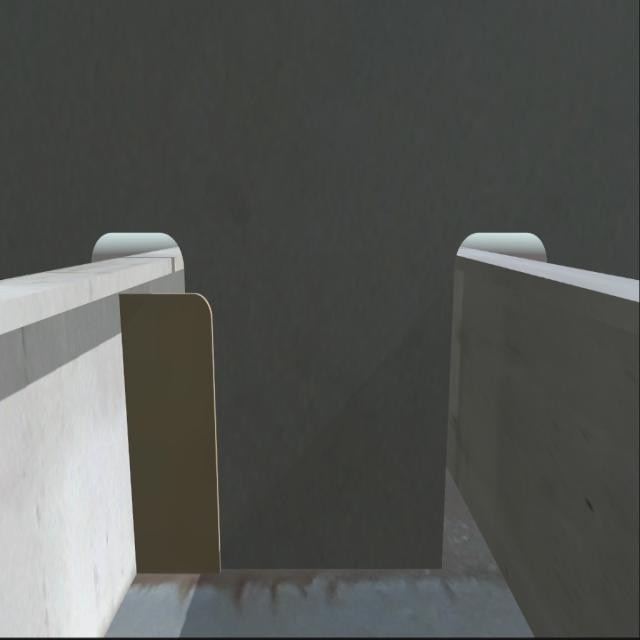fillet_yong_jeop_jang: (131, 548, 445, 584)
longi_yong_jeop_jang: (115, 288, 138, 578)
plate_CP05: (132, 280, 218, 575)
